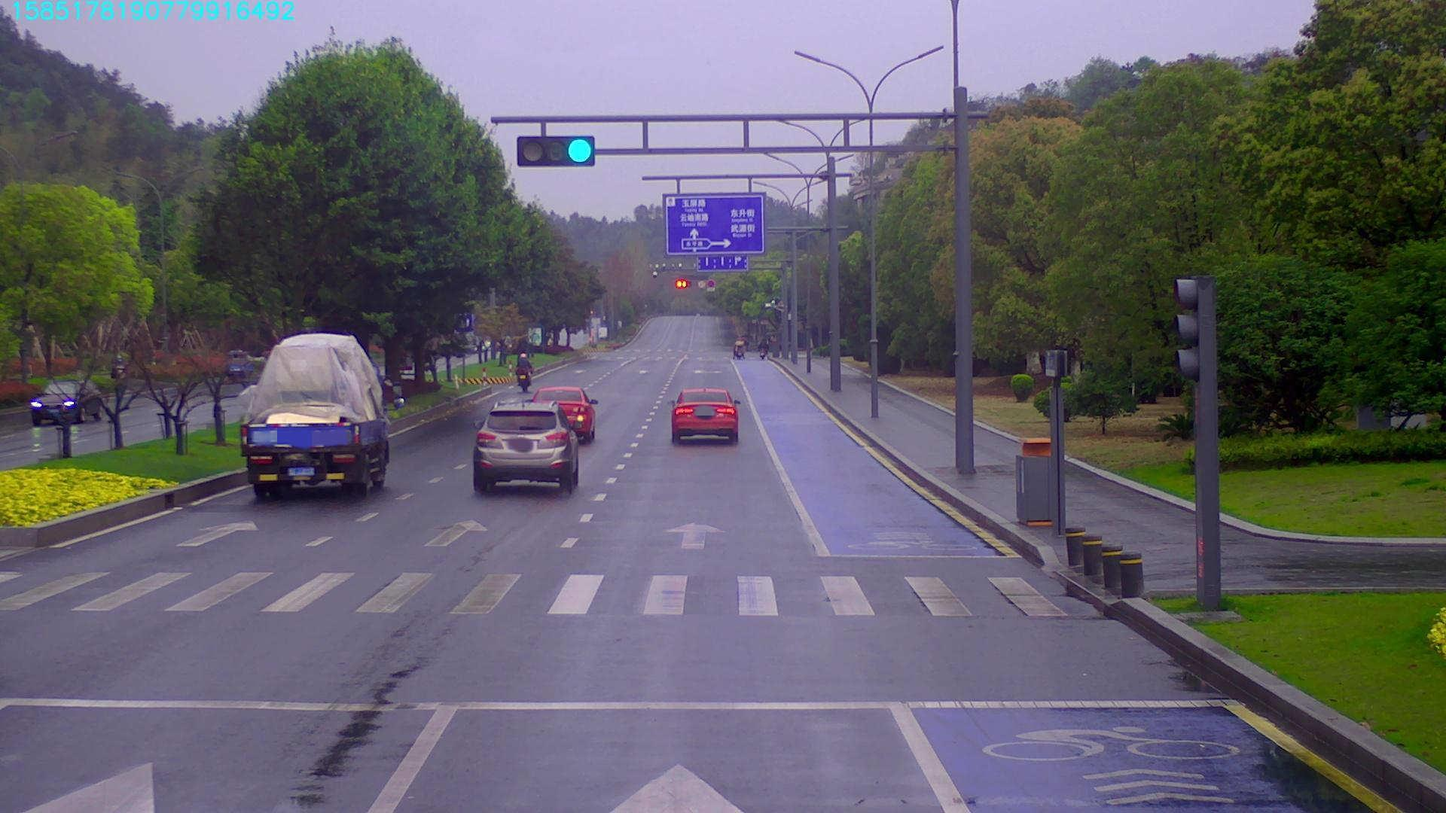green: (517, 137, 584, 165)
